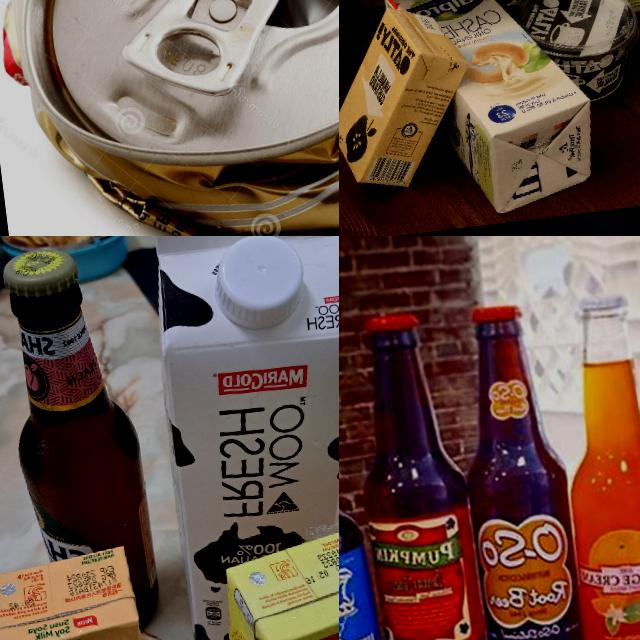aba de lata: (111, 0, 290, 105)
caixinha: (138, 236, 339, 640), (383, 0, 602, 225), (339, 0, 479, 196), (0, 541, 173, 640), (209, 518, 339, 640)
garrafa de vidro: (0, 238, 162, 640), (443, 295, 593, 640), (342, 307, 490, 640), (542, 289, 640, 640), (339, 381, 391, 640)
lata: (0, 0, 339, 236)
tampa plástica: (209, 236, 309, 333)
